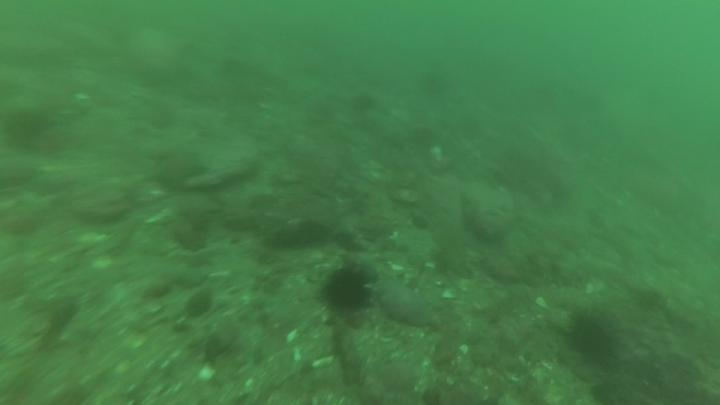echinus: (562, 309, 618, 363), (319, 265, 378, 316), (416, 70, 457, 104), (350, 87, 380, 117)
